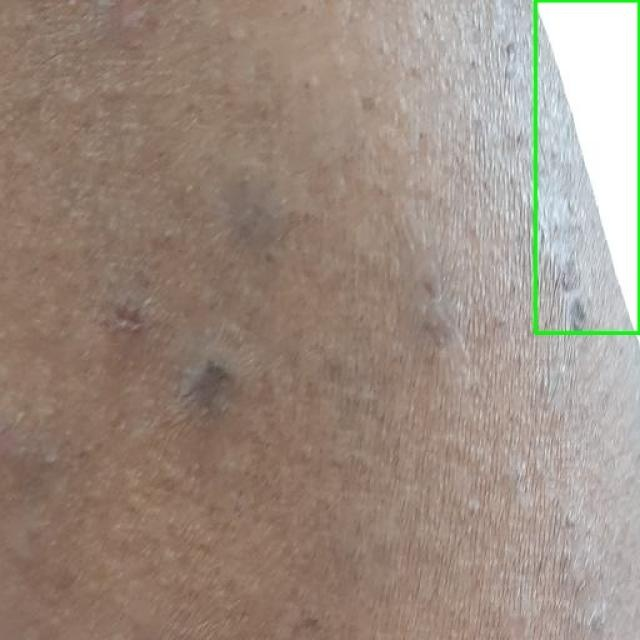Atopic Dermatitis: (535, 0, 639, 332)
